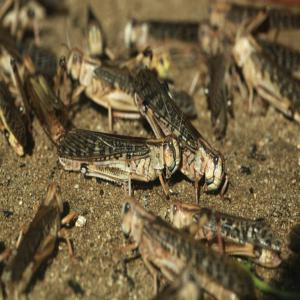locust: (132, 66, 260, 179), (115, 195, 243, 300)
